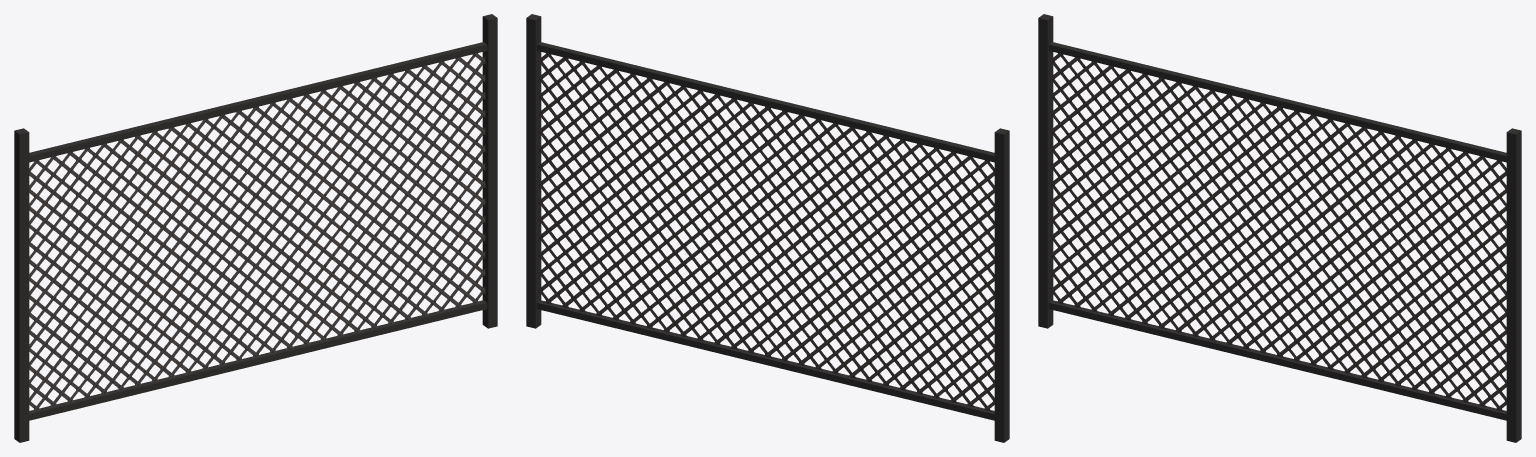
Rendered from SM_IndustrialProps_Fence_05.fbx.
3 renders of one model, left to right at view 1: azimuth 30°, elevation 25°; view 2: azimuth 150°, elevation 25°; view 3: azimuth 330°, elevation 25°, orthographic.
Parts seen in each view (by area): view 1: SM_IndustrialProps_Fence_05; view 2: SM_IndustrialProps_Fence_05; view 3: SM_IndustrialProps_Fence_05.
Part boxes in pixels (box(x1,y1,x2,y2)): SM_IndustrialProps_Fence_05: box(14, 14, 497, 442); SM_IndustrialProps_Fence_05: box(526, 14, 1009, 442); SM_IndustrialProps_Fence_05: box(1038, 14, 1521, 442).
Size of the model in its own units: 3.57 by 2.2 by 0.0712.
